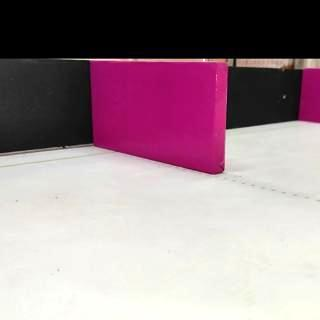xparking: (92, 63, 224, 163), (305, 70, 320, 121)
